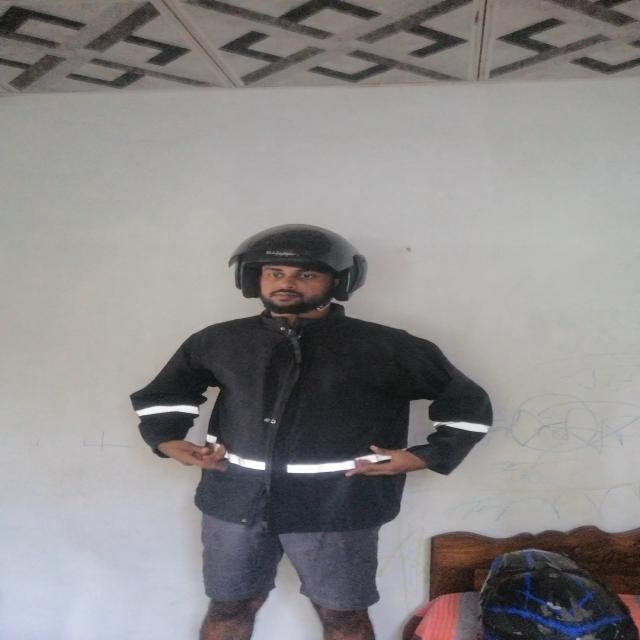Helmet_Wearer: (226, 222, 370, 318)
Jacket_Wearer: (120, 295, 504, 530)
Person: (144, 224, 471, 640)
